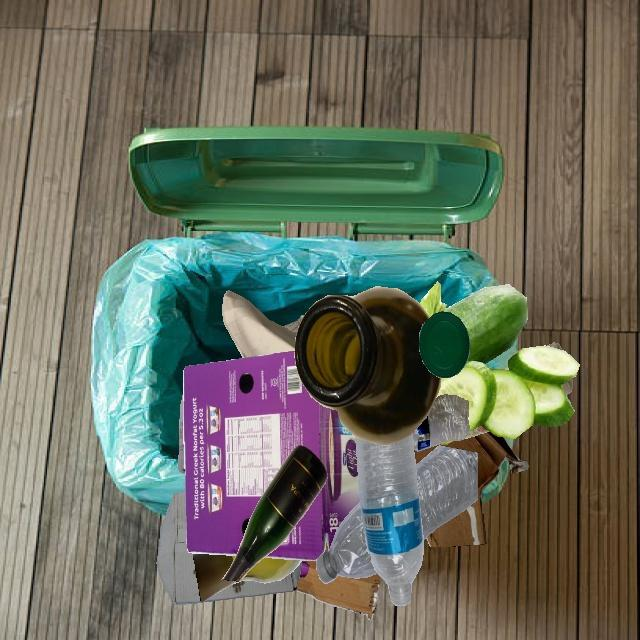biowaste: (420, 281, 580, 438)
cardboard: (183, 351, 360, 561), (157, 491, 302, 605), (414, 431, 529, 547), (296, 560, 381, 620)
glass: (294, 286, 441, 445), (221, 445, 327, 582), (193, 553, 303, 602), (509, 346, 566, 395)
paper: (222, 290, 296, 358), (282, 315, 304, 334)
plastic: (355, 433, 423, 605), (415, 445, 478, 540), (316, 502, 378, 584), (419, 312, 470, 378), (412, 394, 470, 451), (178, 392, 185, 474), (465, 425, 489, 439)
